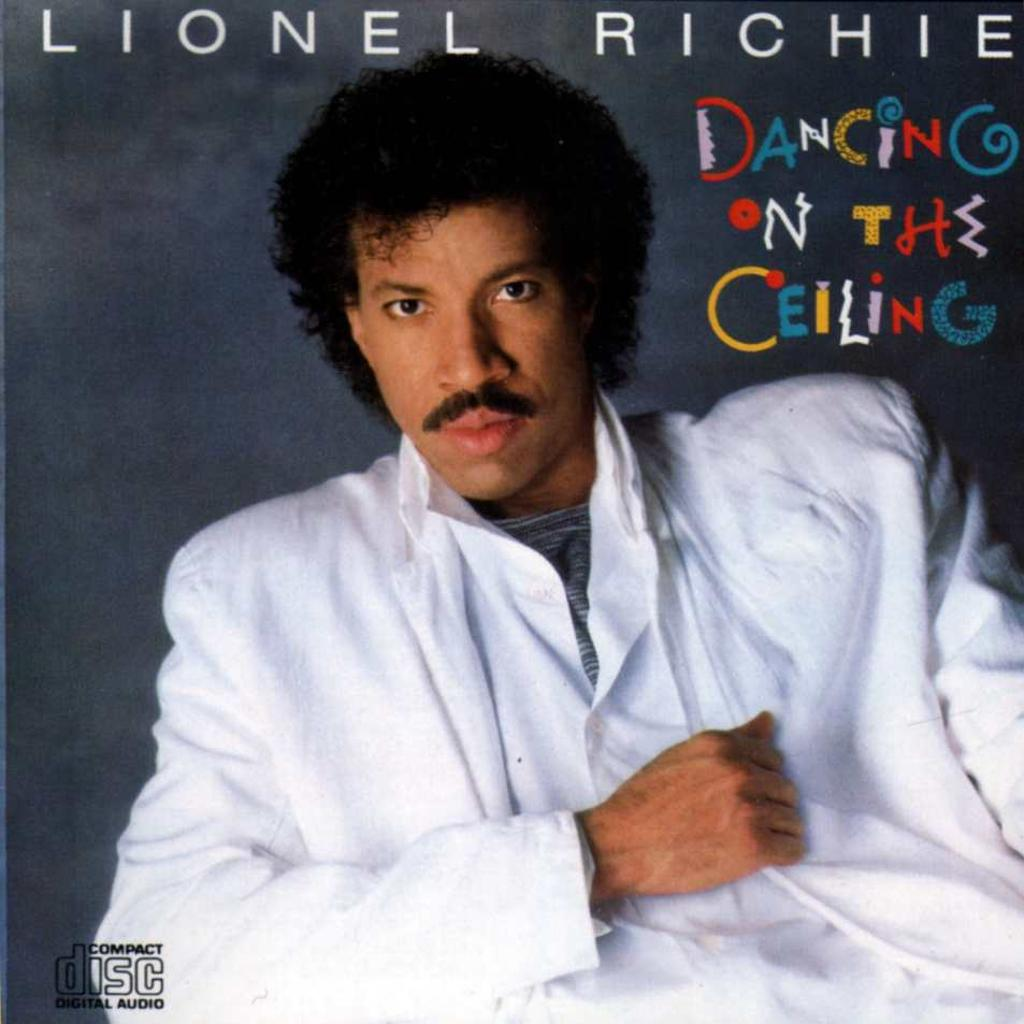face: (354, 220, 582, 502)
